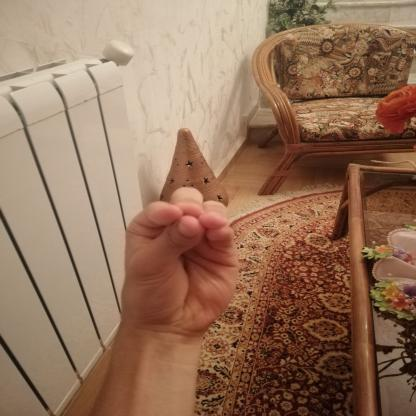HA: (96, 183, 254, 348)
